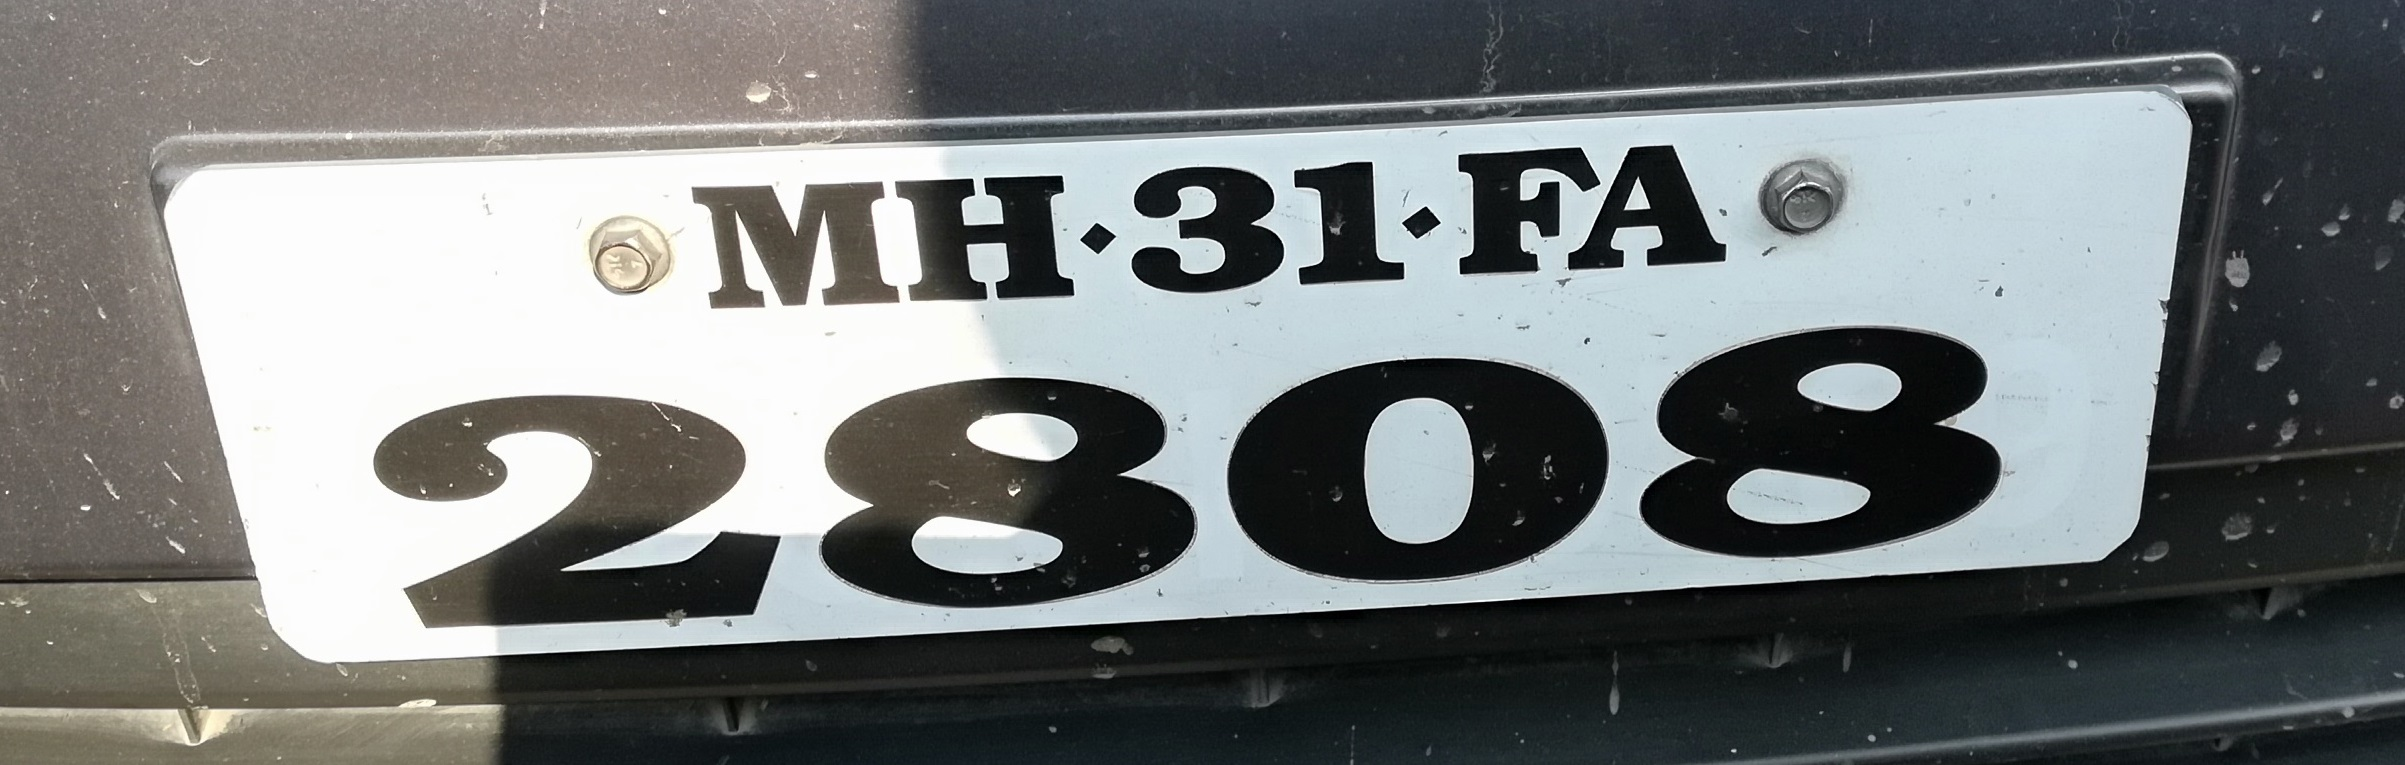numberplate: (178, 58, 2209, 672)
